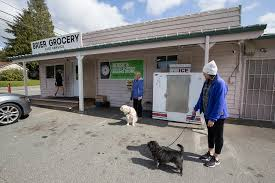Good: (128, 60, 229, 126), (53, 68, 146, 104)
